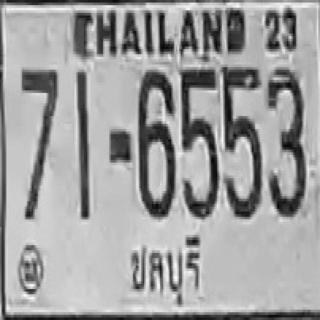N01: (75, 68, 90, 218)
N03: (266, 67, 306, 217)
N05: (222, 66, 261, 218), (180, 68, 218, 218)
N06: (137, 70, 175, 217)
N07: (20, 67, 57, 219), (20, 67, 57, 199)
P13: (123, 226, 209, 311)
